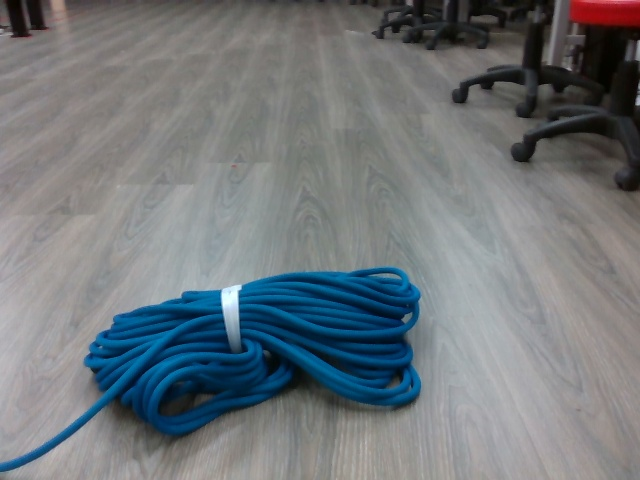rope: (3, 263, 427, 473)
